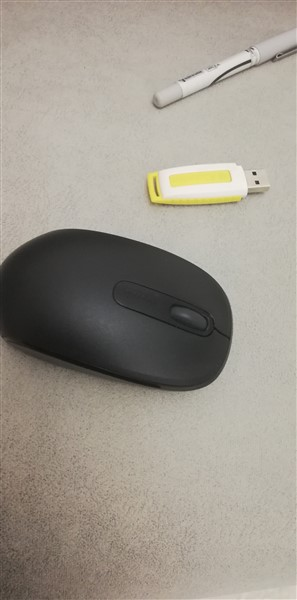flash disk: (141, 160, 275, 208)
mouse: (1, 226, 242, 392)
pilot kalem: (149, 15, 297, 114)
